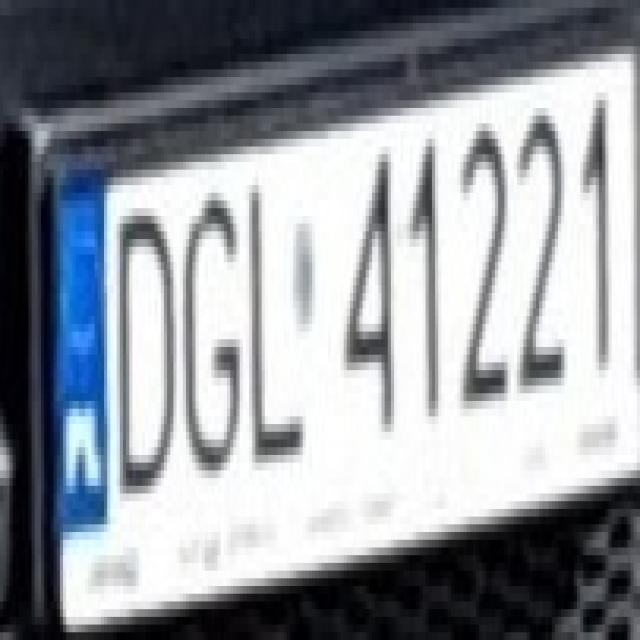0: (110, 185, 176, 486)
1: (564, 62, 621, 386), (394, 116, 444, 424)
2: (451, 108, 511, 401), (508, 92, 564, 394)
4: (334, 123, 397, 432)
G: (177, 177, 240, 478)
L: (233, 162, 303, 455)
